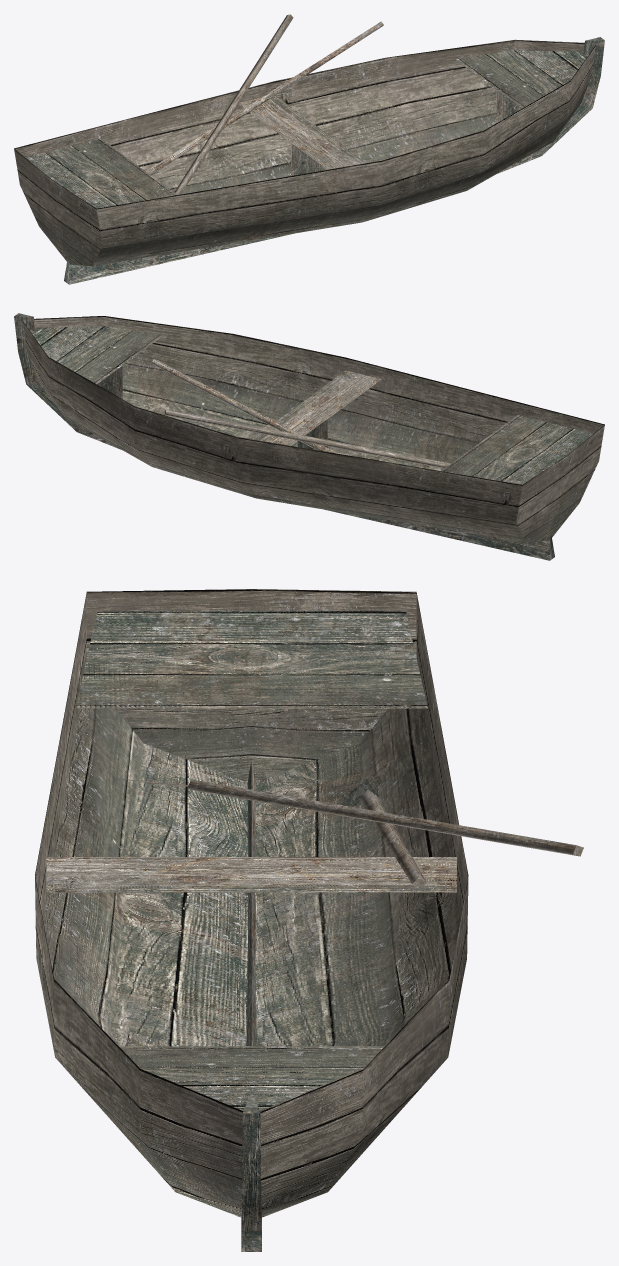
The model's file is Boat1_LOD2.fbx.
3 views of the same model, one above another, from view 1: azimuth 30°, elevation 25°; view 2: azimuth 150°, elevation 25°; view 3: azimuth 270°, elevation 25° (orthographic). The views are drawn at different scales.
Visible parts, largest first — view 1: polySurface1055; view 2: polySurface1055; view 3: polySurface1055.
Boxes of the visible parts, x1,y1,x2,y2 form: polySurface1055: (14,14,604,284); polySurface1055: (14,313,604,560); polySurface1055: (35,589,583,1251).
Size of the model in its own units: 5.37 by 1.38 by 2.32.
